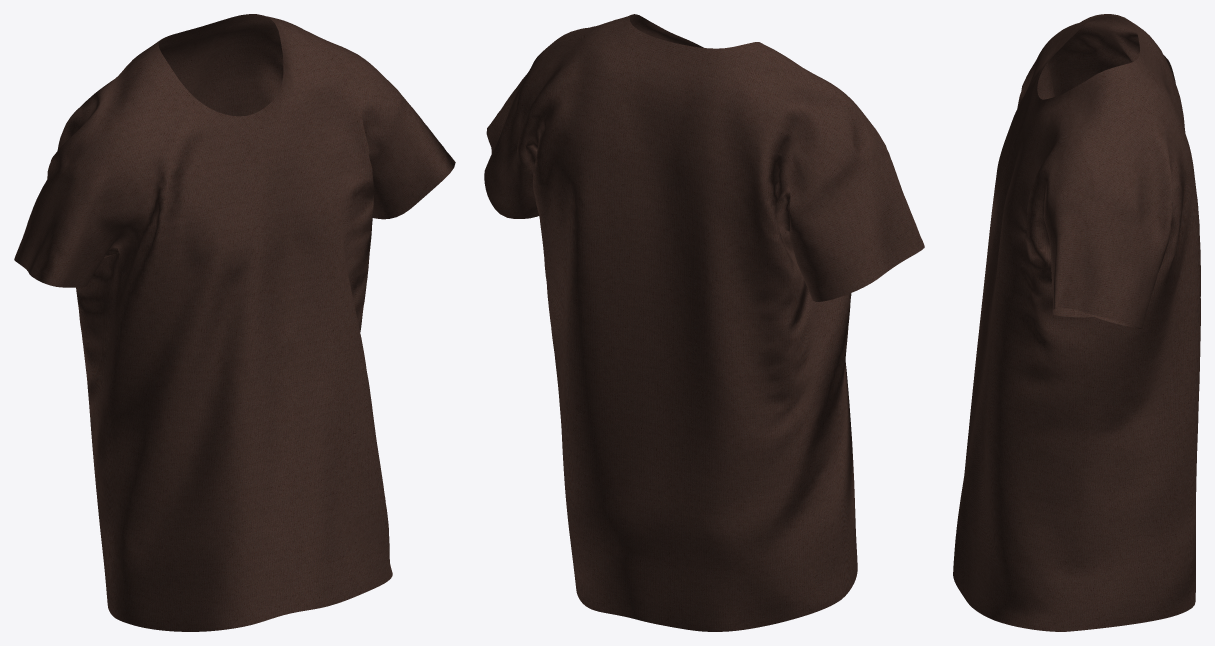
Rendered from tshirt_walking.glb.
3 views of the same model, side by side, from view 1: azimuth 30°, elevation 25°; view 2: azimuth 150°, elevation 25°; view 3: azimuth 270°, elevation 25° (orthographic). The views are drawn at different scales.
Visible parts, largest first — view 1: tshirt, neck; view 2: tshirt, neck; view 3: tshirt, neck.
Boxes of the visible parts, x1,y1,x2,y2 form: tshirt: (14,16,455,631); neck: (146,14,293,129); tshirt: (484,18,924,631); neck: (617,14,772,61); tshirt: (953,14,1200,631); neck: (1031,14,1147,111).
Bounding box in the file's own units: 1.54 × 1.91 × 0.7922.
Materials: 3 (3 with a texture image).
